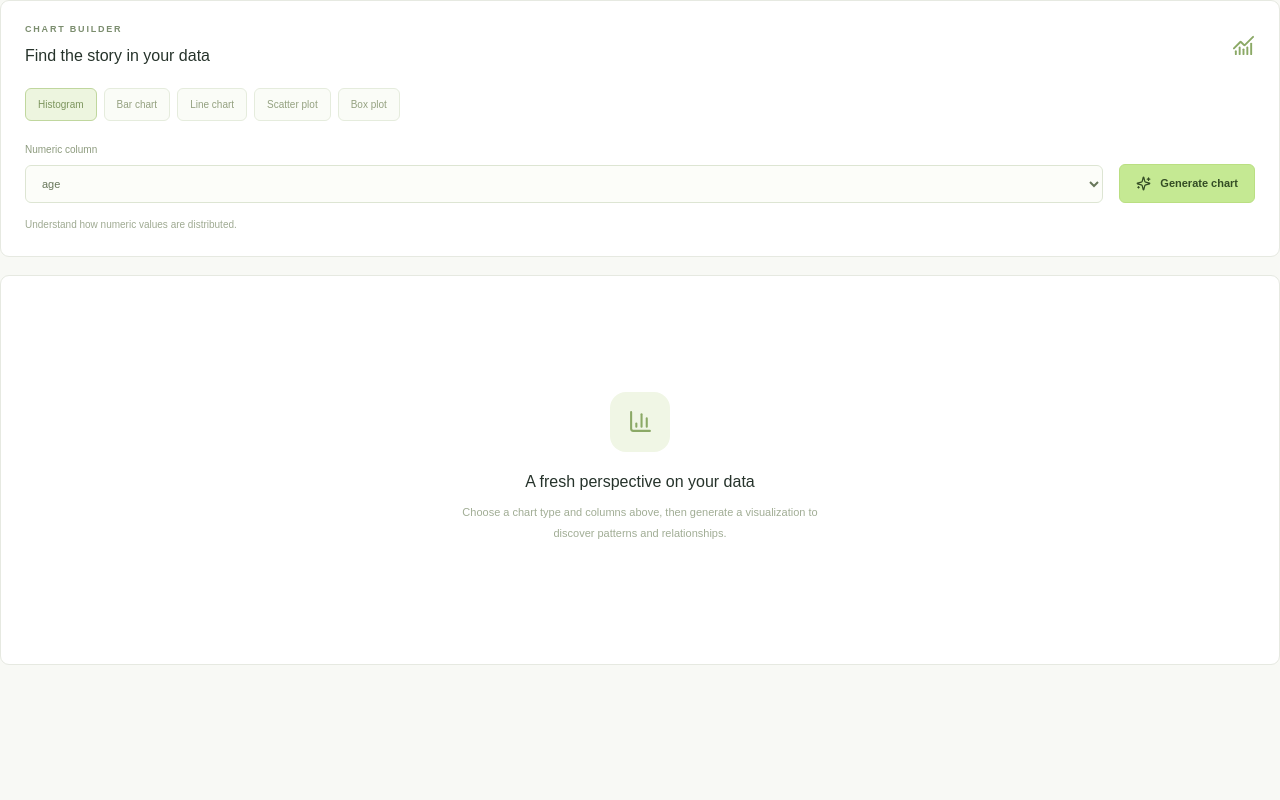
Test: ChartPanel › shows backend chart failures without leaving a loading state
Click the button "Generate chart". click: (1187, 183)
box: [1119,164,1255,202]
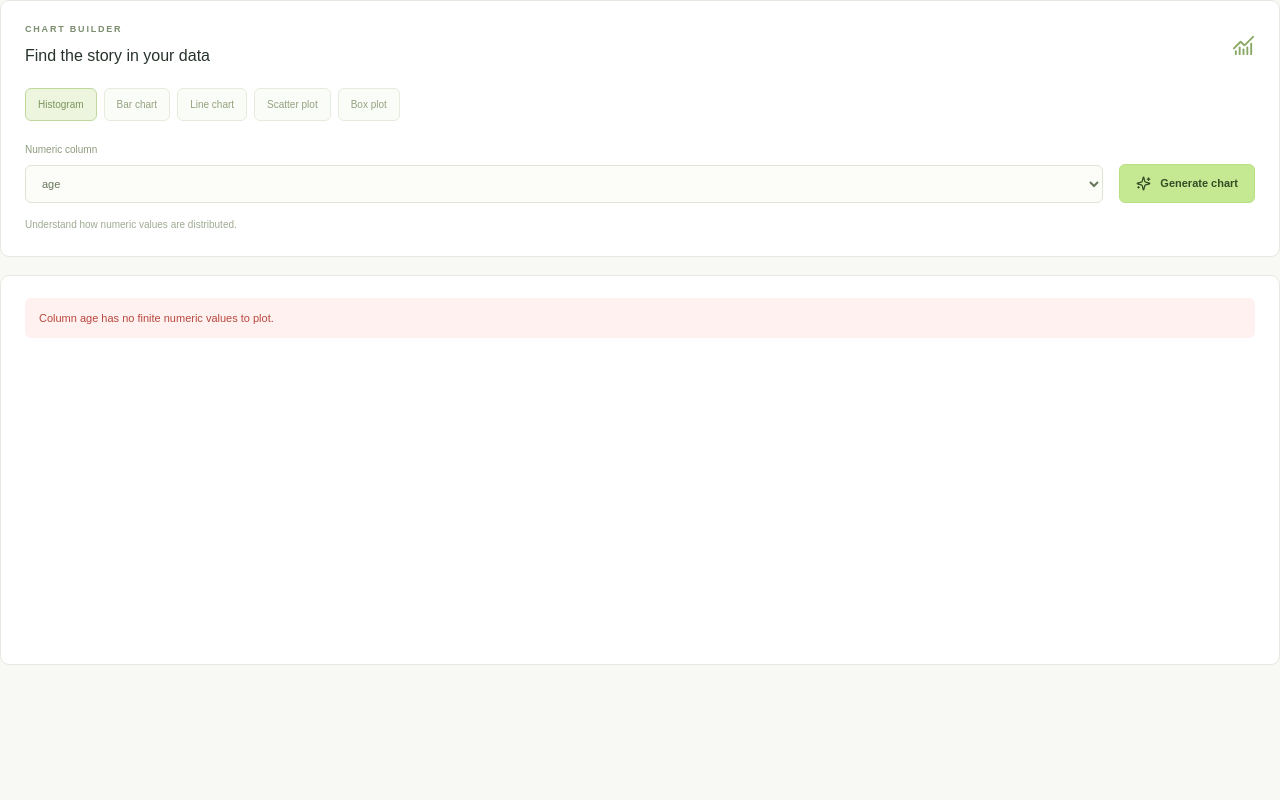
Expected: the message shows "Column age has no finite numeric values", [39,312,274,324]
